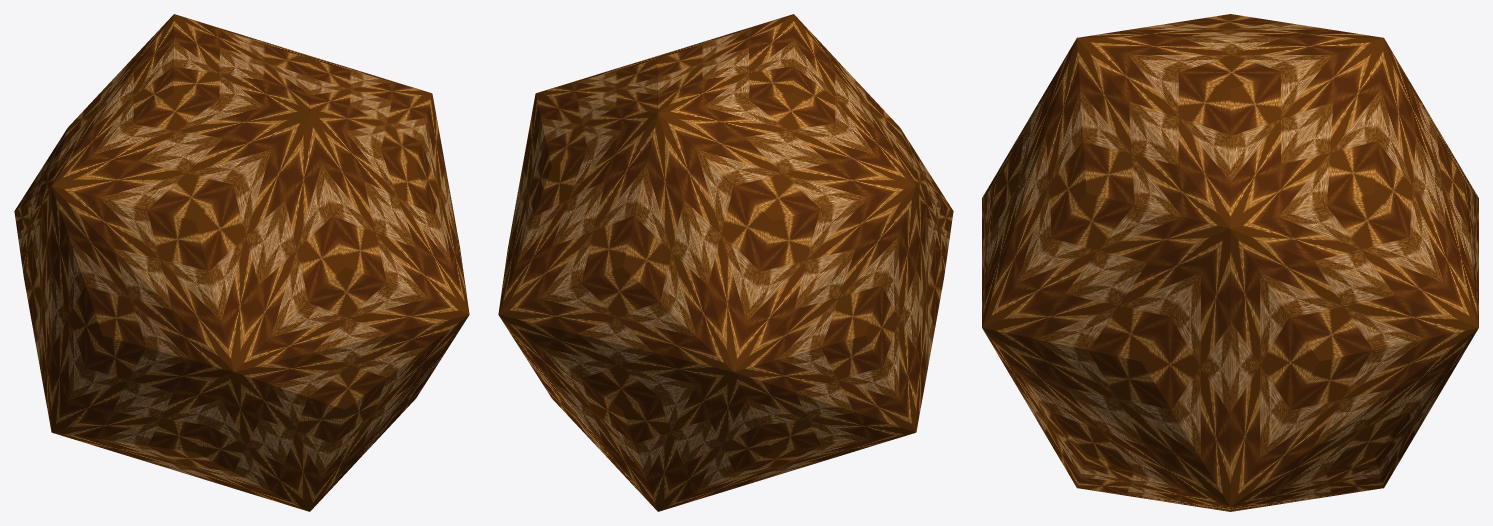
File: 20TriakisIcosahedron.obj
The picture shows the model from 3 angles, left to right: view 1: azimuth 30°, elevation 25°; view 2: azimuth 150°, elevation 25°; view 3: azimuth 270°, elevation 25°; orthographic projection. The views are drawn at different scales.
Bounding box in the file's own units: 5.85 × 5.85 × 5.85.
Materials: 1 (1 with a texture image).
